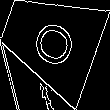O_W: (22, 11, 77, 70)
